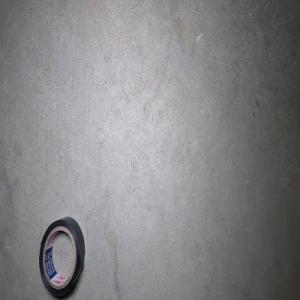Tape: (39, 216, 85, 298)
